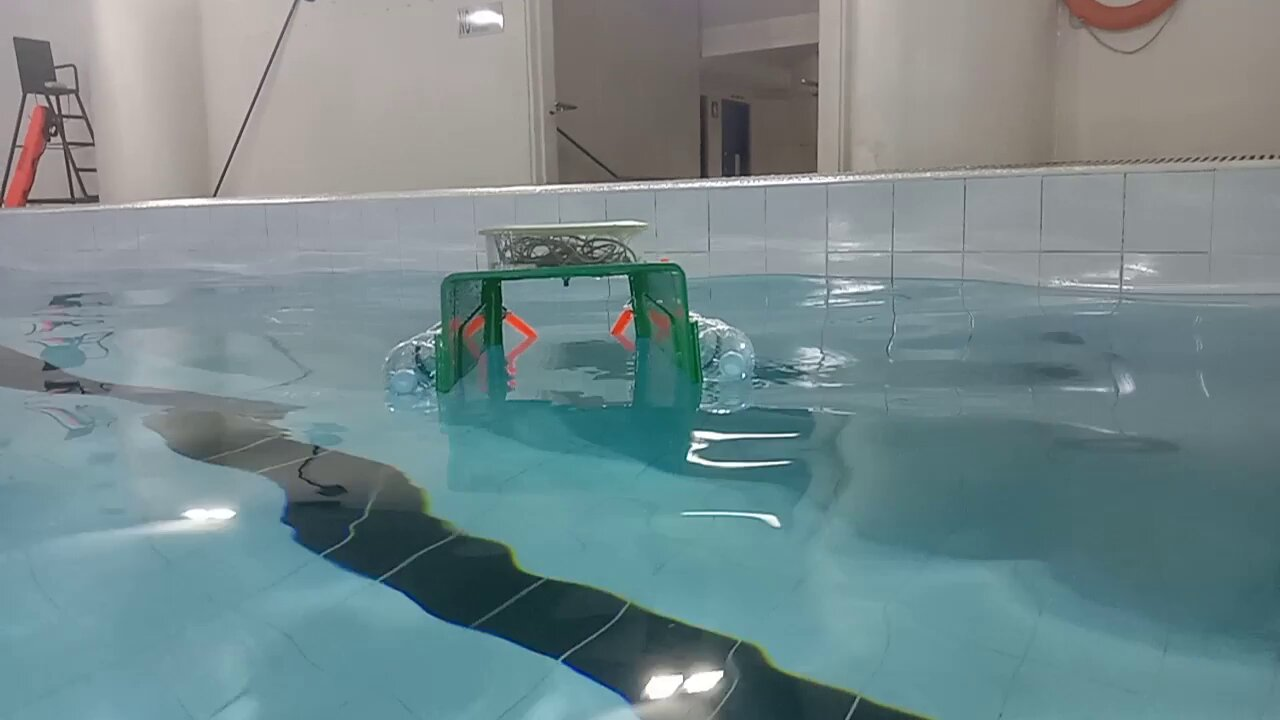drone: (376, 214, 758, 403)
